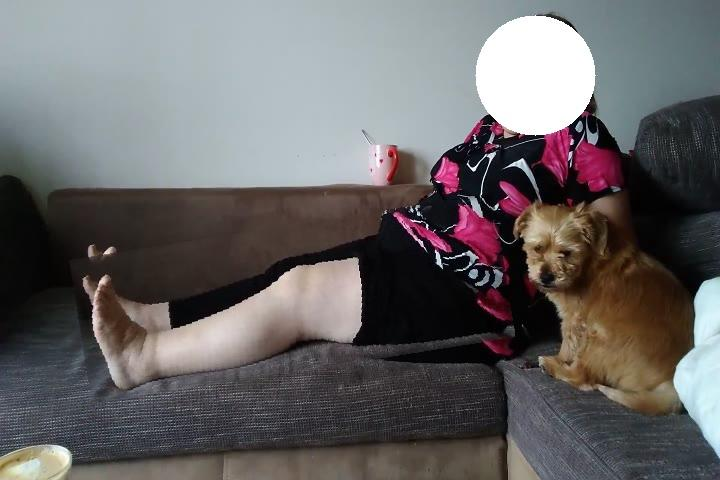lowerbody: (75, 211, 512, 389)
